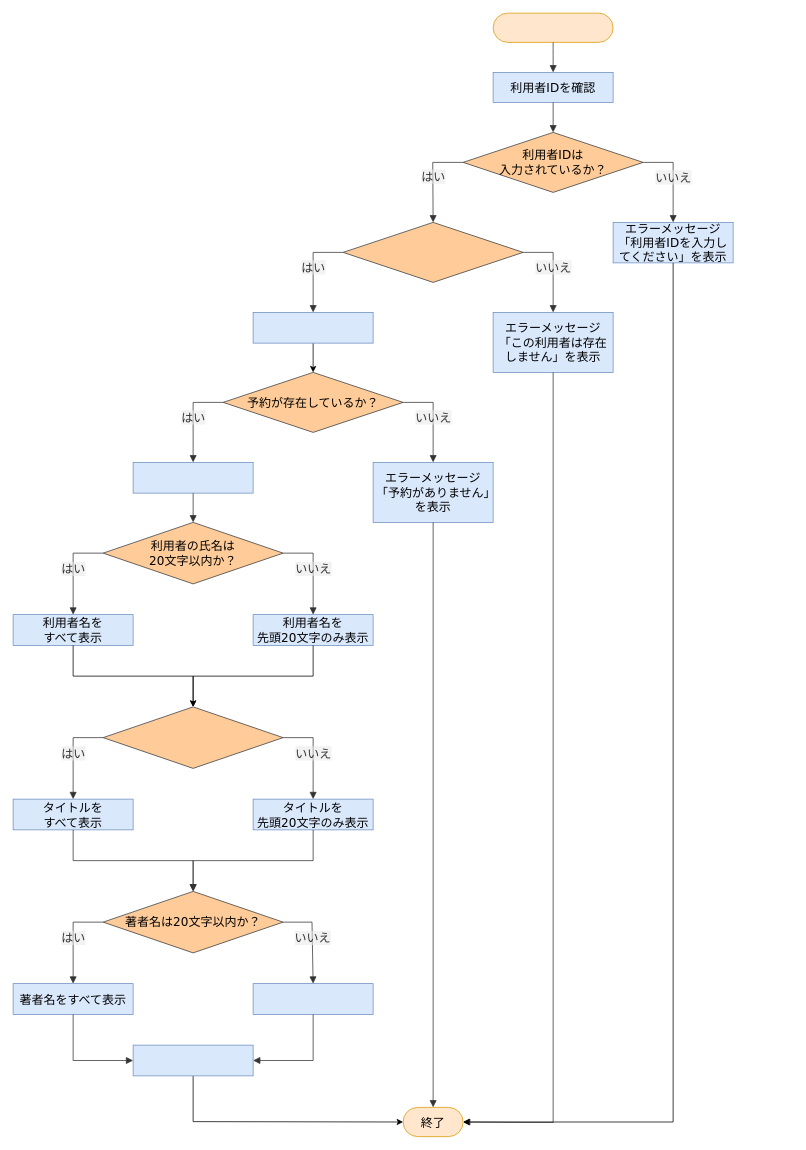
Some shapes in this 806 by 1150 pixel diagram are drawn without their labels. The centre of each missing label's shape, as x and y in pixels:
"ジャンルを表示" goes at point (192, 1060).
"タイトルは20文字以内か？" goes at point (192, 737).
"データベースから 予約情報検索" goes at point (312, 327).
"入力されたIDの利用者が 存在しているか？" goes at point (432, 252).
"利用者の予約情報を取得" goes at point (192, 477).
"検索ボタン押下" goes at point (552, 27).
"著者名を 先頭20文字のみ表示" goes at point (312, 998).
